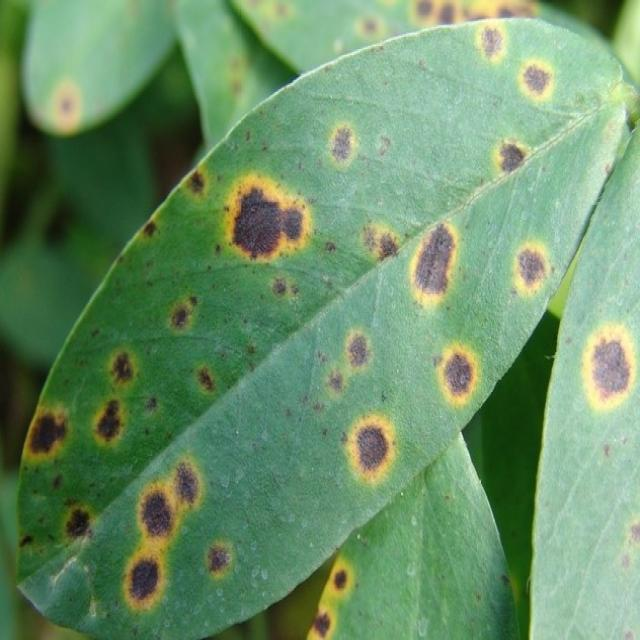Enfermedad-Mancha-de-hierro: (15, 15, 640, 640)
